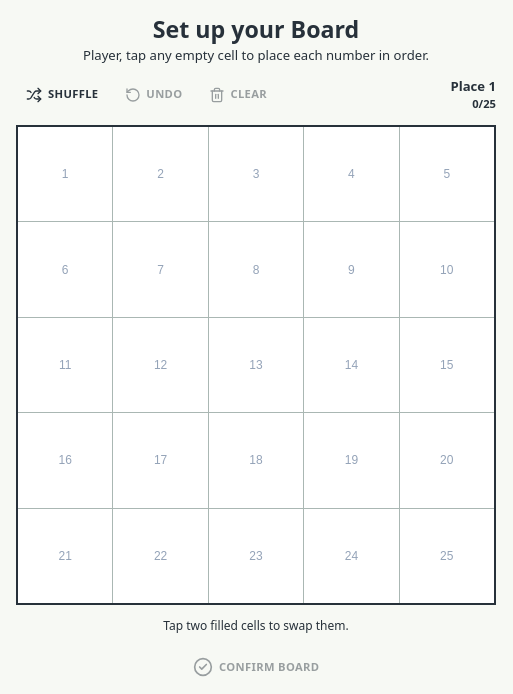
Test case: BingoBoardSetup › places sequential numbers into whichever empty cells the Player chooses
The width and height of the screenshot is (513, 694).
Expected: the text "Place 1" is shown, [450,76,496,96]
Click the button named "Empty cell, row 5, column 5. Place 1" at point(447, 556), box [400,509,494,603]
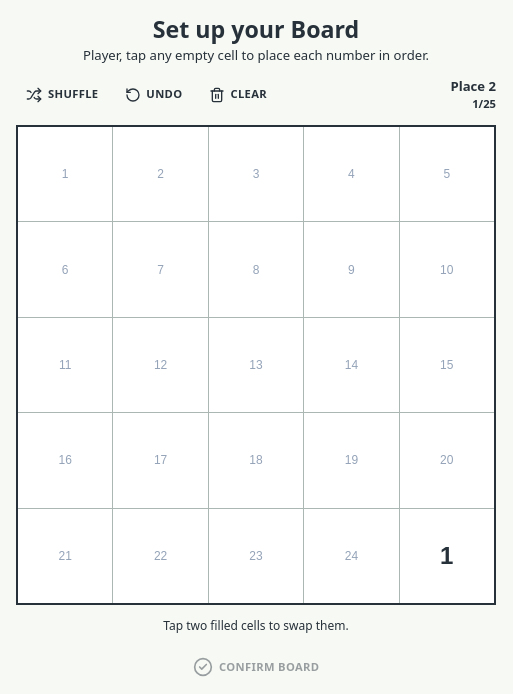
Expected: the text "Place 2" is shown, [450,76,496,96]
Expected: the button named "Number 1, row 5, column 5. Select to swap" reads "1", [400,509,494,603]
Click the button named "Empty cell, row 1, column 1. Place 2" at point(65, 174), box [18,127,112,221]
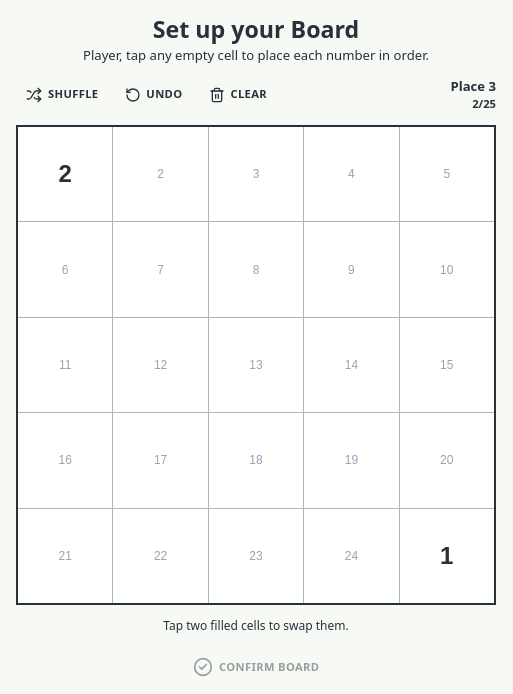
Expected: the button named "Number 2, row 1, column 1. Select to swap" reads "2", [18,127,112,221]
